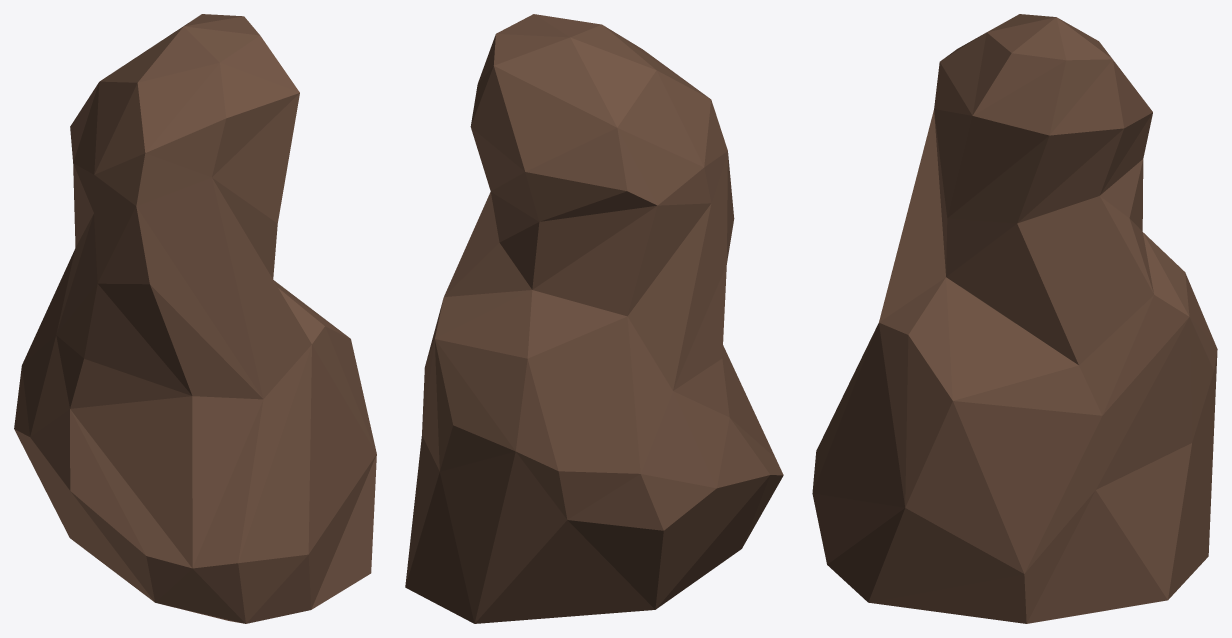
The model's file is medium_rock6.glb.
3 views of the same model, side by side, from view 1: azimuth 30°, elevation 25°; view 2: azimuth 150°, elevation 25°; view 3: azimuth 270°, elevation 25° (orthographic). The views are drawn at different scales.
Parts seen in each view (by area): view 1: medium_rock6; view 2: medium_rock6; view 3: medium_rock6.
Part boxes in pixels (x1,y1,x2,y2): medium_rock6: [14, 14, 376, 623]; medium_rock6: [405, 14, 783, 623]; medium_rock6: [812, 14, 1217, 623].
Bounding box in the file's own units: 1.51 × 2.67 × 1.67.
